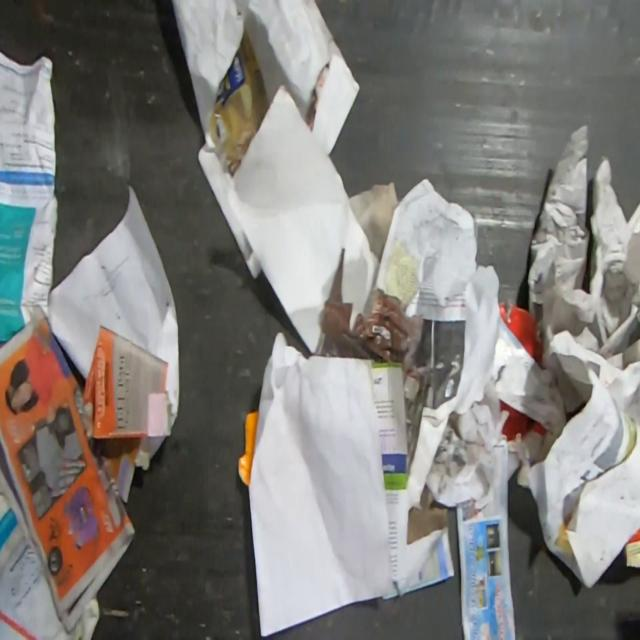cardboard: (498, 302, 541, 365), (499, 400, 546, 440), (624, 525, 640, 568)
